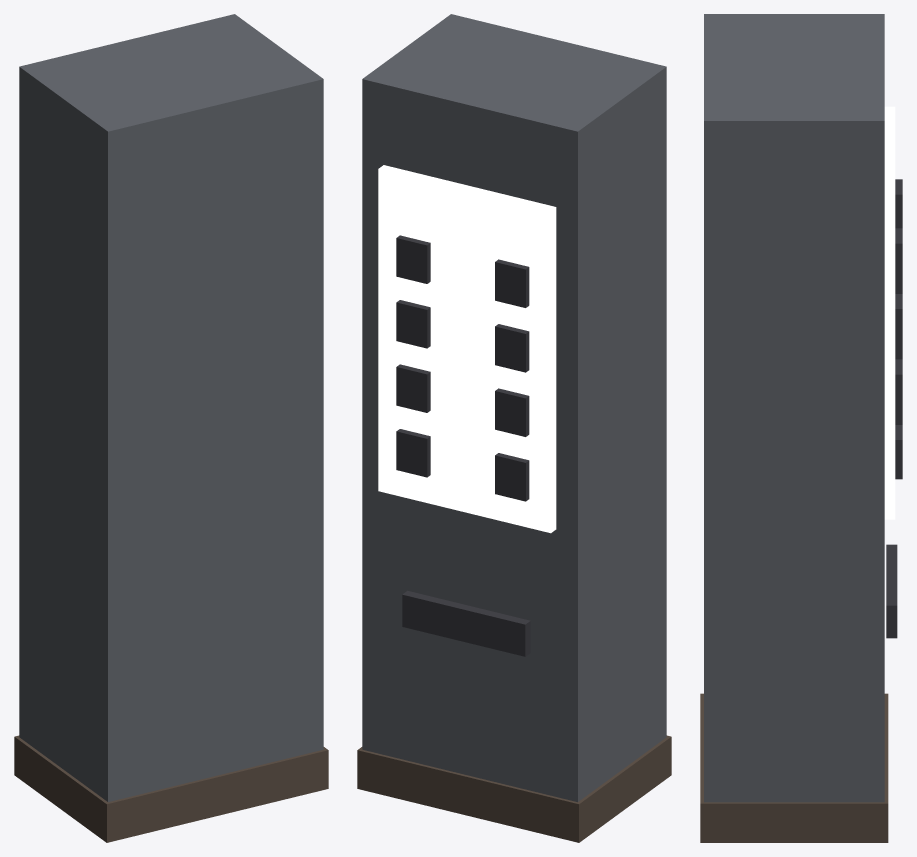
Rendered from prop_tabako_jihanki.glb.
3 renders of one model, left to right at view 1: azimuth 30°, elevation 25°; view 2: azimuth 150°, elevation 25°; view 3: azimuth 270°, elevation 25°, orthographic.
Parts seen in each view (by area): view 1: tabako_jihanki; view 2: tabako_jihanki; view 3: tabako_jihanki.
Part boxes in pixels (box(x1,y1,x2,y2)): tabako_jihanki: box(14, 14, 328, 842); tabako_jihanki: box(357, 14, 671, 842); tabako_jihanki: box(700, 14, 902, 842).
Size of the model in its own units: 0.72 by 2.2 by 0.56.
